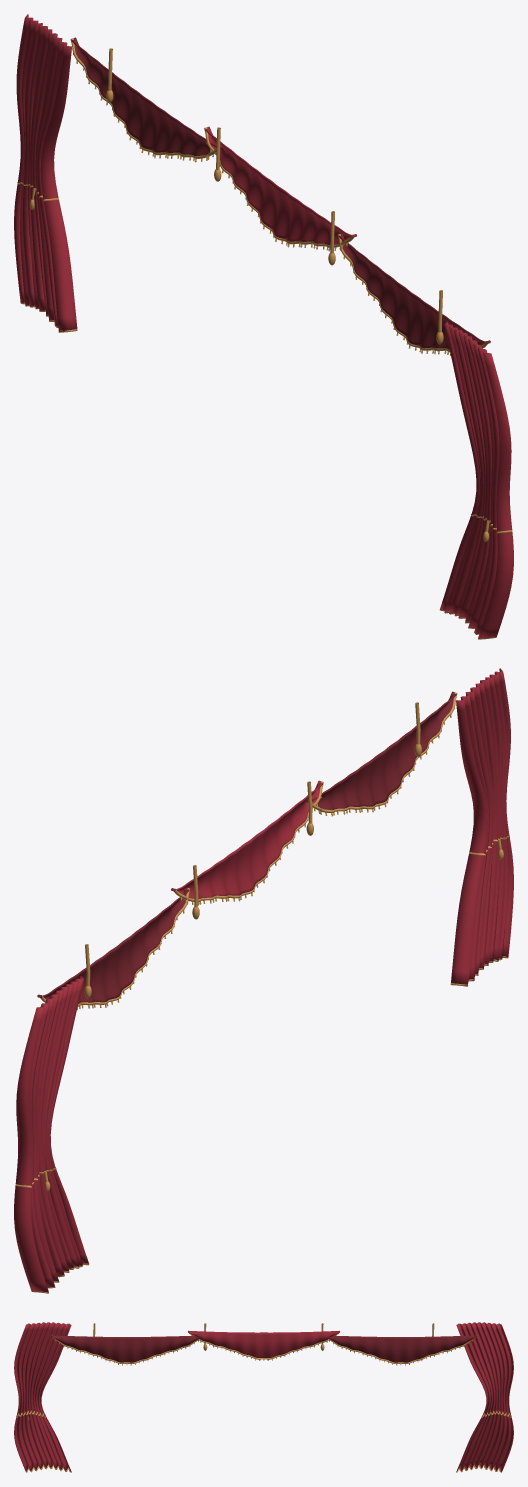
File: SM_Hub_PortalValance.fbx
3 views of the same model, one above another, from view 1: azimuth 30°, elevation 25°; view 2: azimuth 150°, elevation 25°; view 3: azimuth 270°, elevation 25° (orthographic). The views are drawn at different scales.
Visible parts, largest first — view 1: Scalloped overhead drape.003_Baked; view 2: Scalloped overhead drape.003_Baked; view 3: Scalloped overhead drape.003_Baked.
Boxes of the visible parts, x1,y1,x2,y2 form: Scalloped overhead drape.003_Baked: (14,14,513,639); Scalloped overhead drape.003_Baked: (14,668,513,1293); Scalloped overhead drape.003_Baked: (14,1322,513,1472).
Size of the model in its own units: 54.27 by 1313 by 440.
